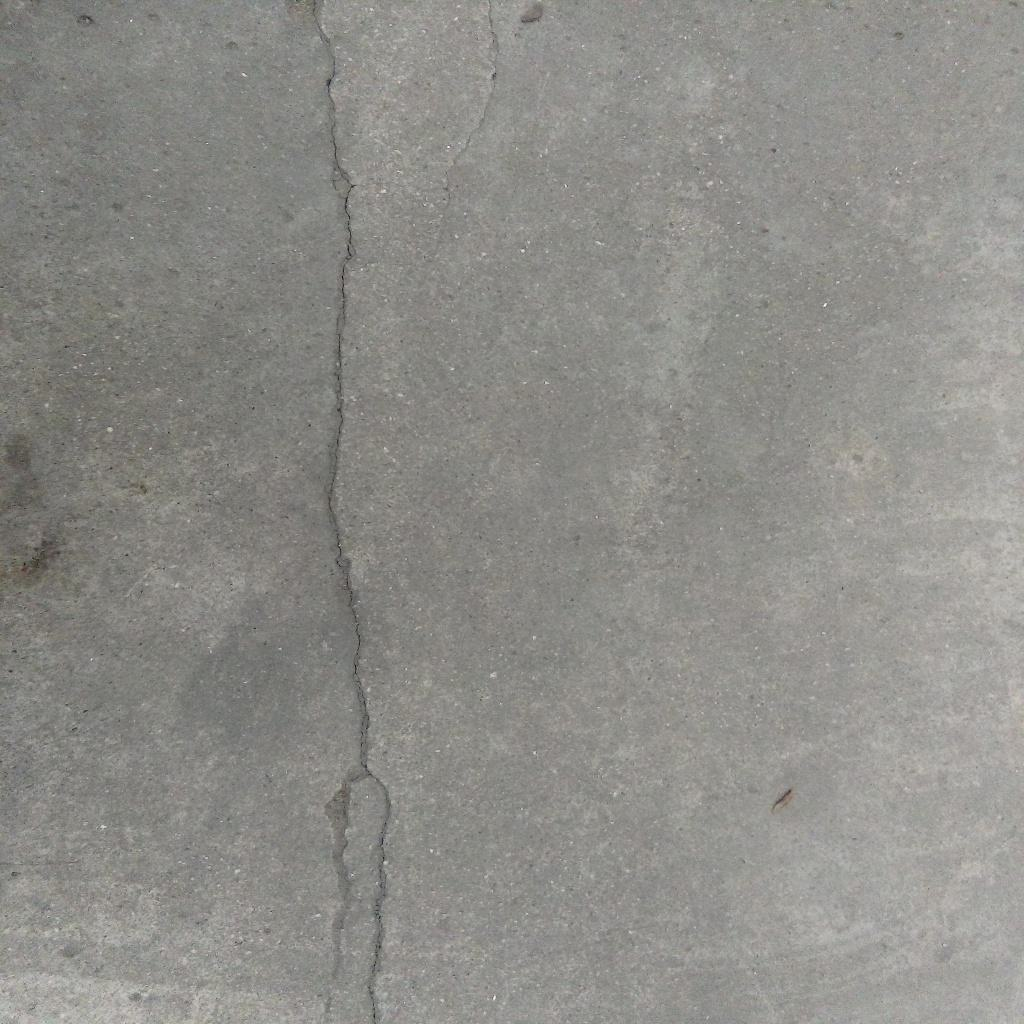Crack: (318, 1, 394, 1024)
